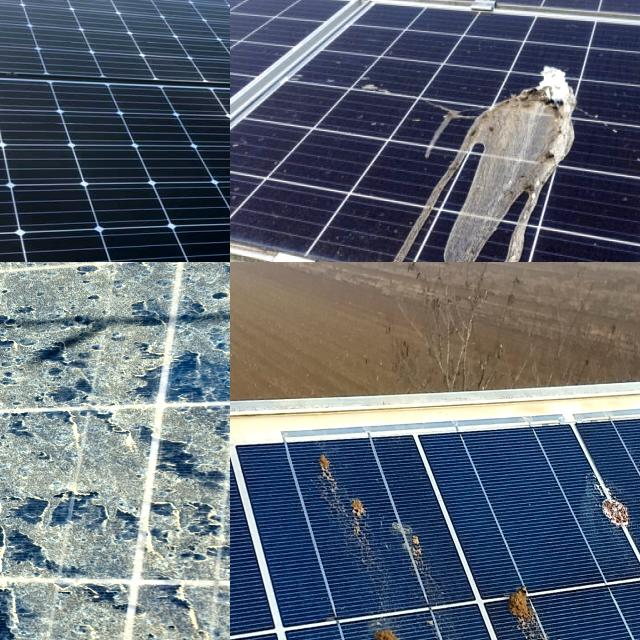bird: (438, 36, 577, 262), (314, 444, 374, 556), (576, 457, 640, 538), (381, 502, 427, 581), (500, 579, 550, 640), (359, 608, 435, 640)
crack: (0, 0, 230, 262)
dust: (0, 273, 158, 402), (0, 419, 116, 554), (0, 428, 105, 560), (150, 403, 230, 570), (0, 282, 81, 411), (0, 262, 197, 308), (104, 589, 230, 640), (0, 262, 43, 396), (193, 262, 230, 397), (0, 262, 92, 313)
